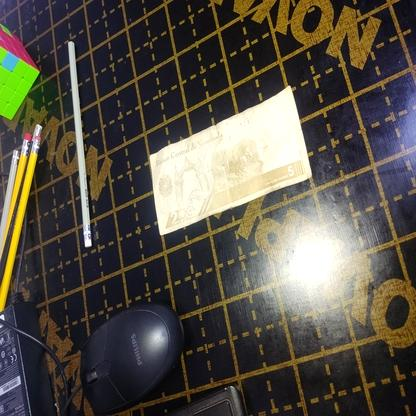five-back-vef: (148, 84, 312, 236)
